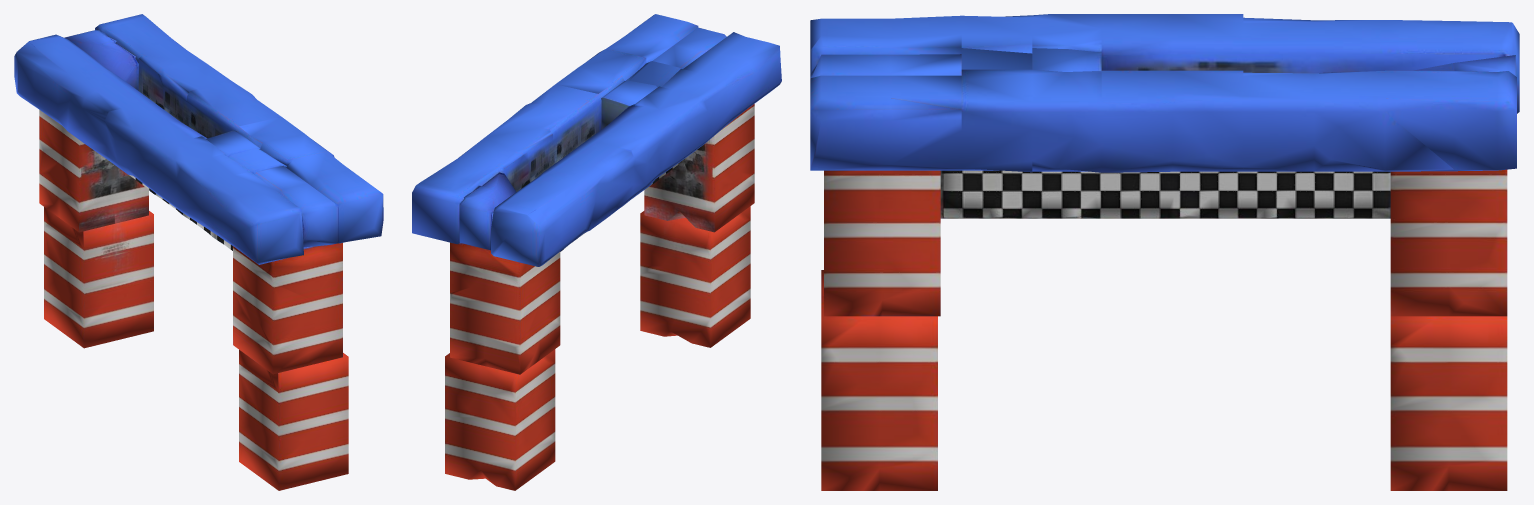
Rendered from finish_arch.glb.
3 renders of one model, left to right at view 1: azimuth 30°, elevation 25°; view 2: azimuth 150°, elevation 25°; view 3: azimuth 270°, elevation 25°, orthographic. The views are drawn at different scales.
Visible parts, largest first — view 1: tripo_node_99df9a4e-b7c8-4d3b-9727-59f3af30c2fa; view 2: tripo_node_99df9a4e-b7c8-4d3b-9727-59f3af30c2fa; view 3: tripo_node_99df9a4e-b7c8-4d3b-9727-59f3af30c2fa.
Boxes of the visible parts, <box> form: tripo_node_99df9a4e-b7c8-4d3b-9727-59f3af30c2fa: <box>14,14,383,490</box>; tripo_node_99df9a4e-b7c8-4d3b-9727-59f3af30c2fa: <box>412,14,781,490</box>; tripo_node_99df9a4e-b7c8-4d3b-9727-59f3af30c2fa: <box>810,14,1519,490</box>.
Bounding box in the file's own units: 0.3223 × 0.6387 × 0.998.
Materials: 1 (1 with a texture image).
